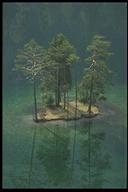tree: (12, 29, 117, 115)
water: (8, 125, 126, 187)
